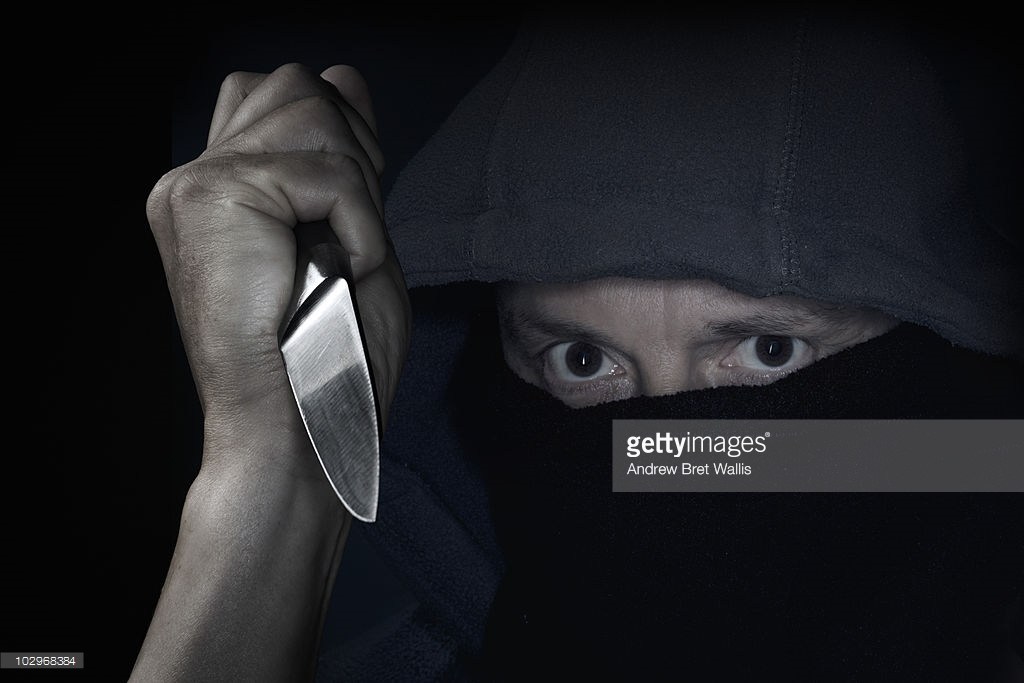knife: (213, 56, 397, 540)
